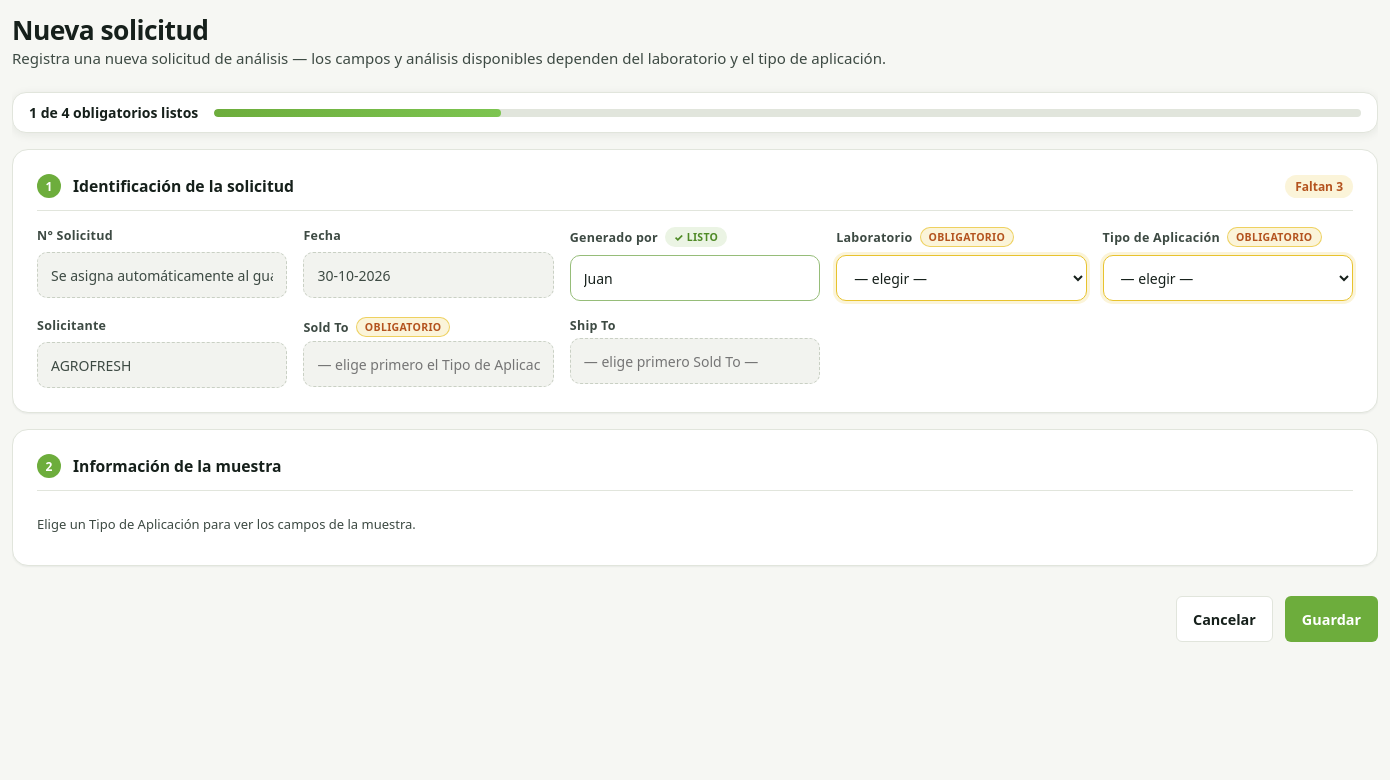
Sold To según el tipo de servicio › Actimist usa SU listado, y el Ship To sale de sus plantas
Select "Actimist" in the dropdown labelled "Tipo de Aplicación" at (1228, 278), box [1103,255,1353,301]
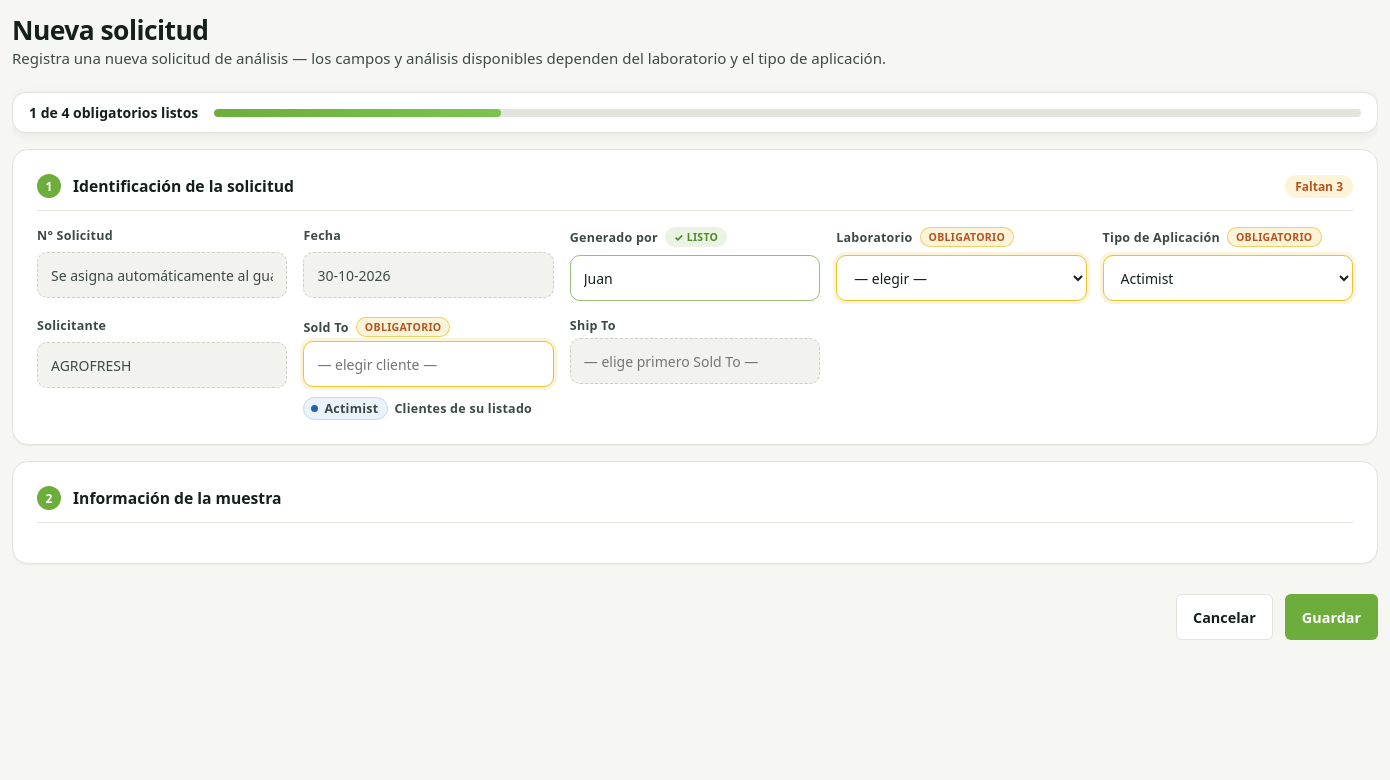
Expected: the text "Clientes de su listado" is shown, [394,400,532,417]
Focus the field with placeholder "— elegir cliente —" at (429, 364), box [303,341,554,387]
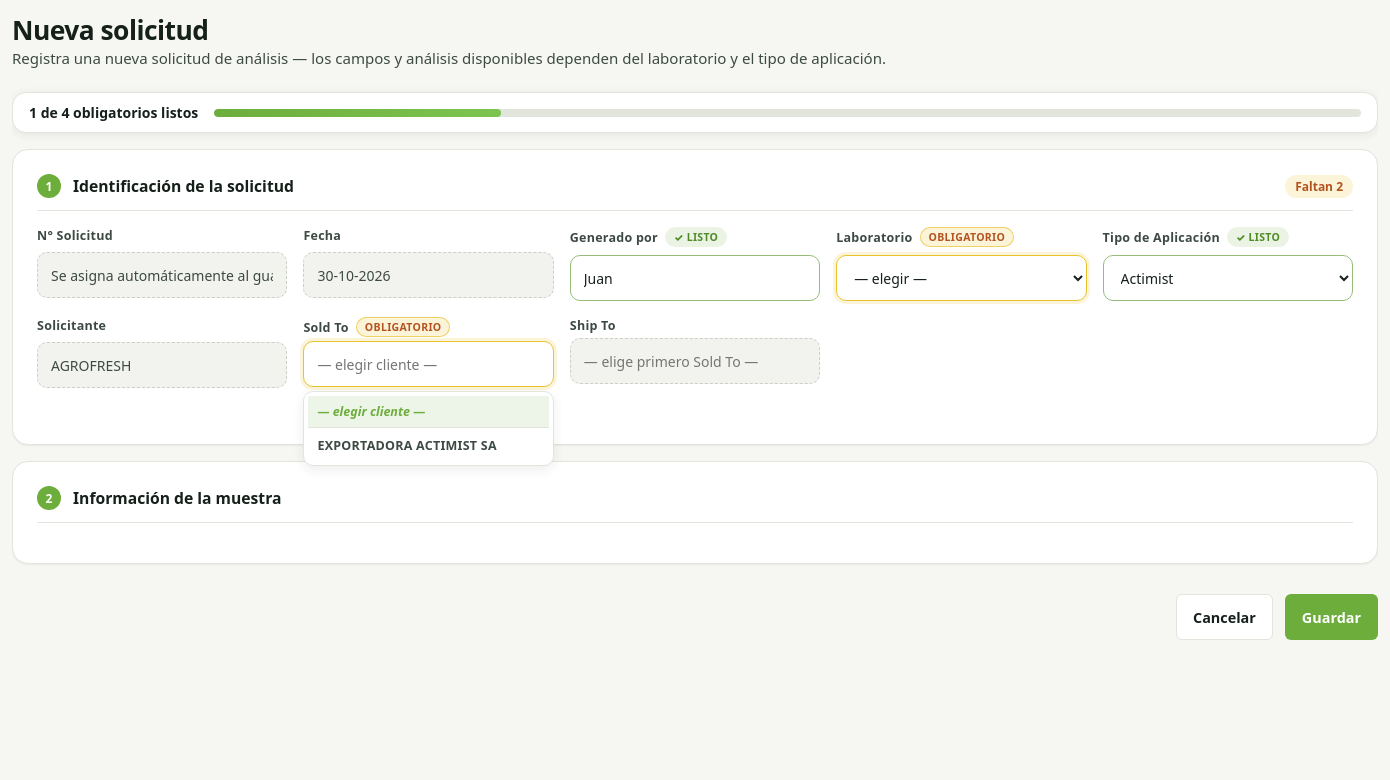
Click the button "EXPORTADORA ACTIMIST SA".
click(429, 446)  # box [308,430,549,461]
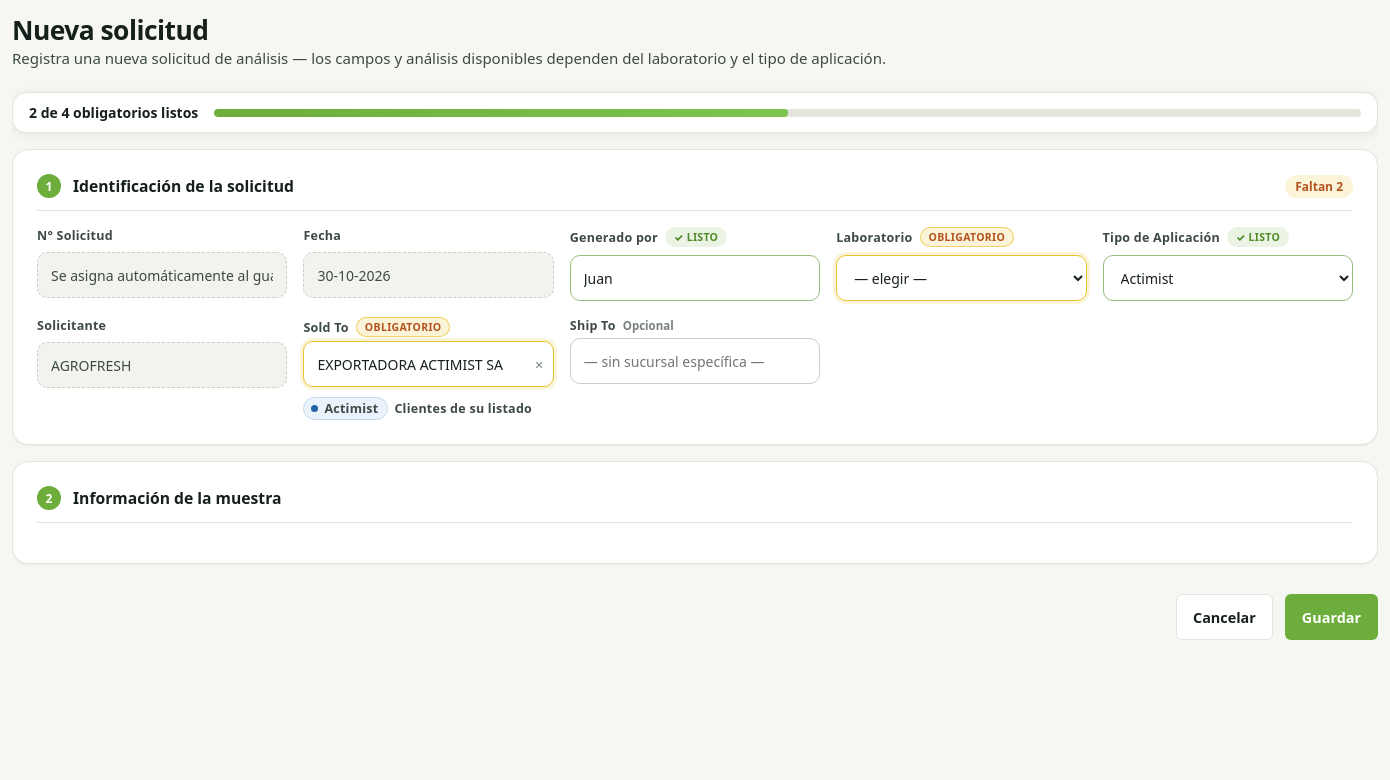
Focus the field with placeholder "— sin sucursal específica —" at (695, 361), box [570,338,820,384]
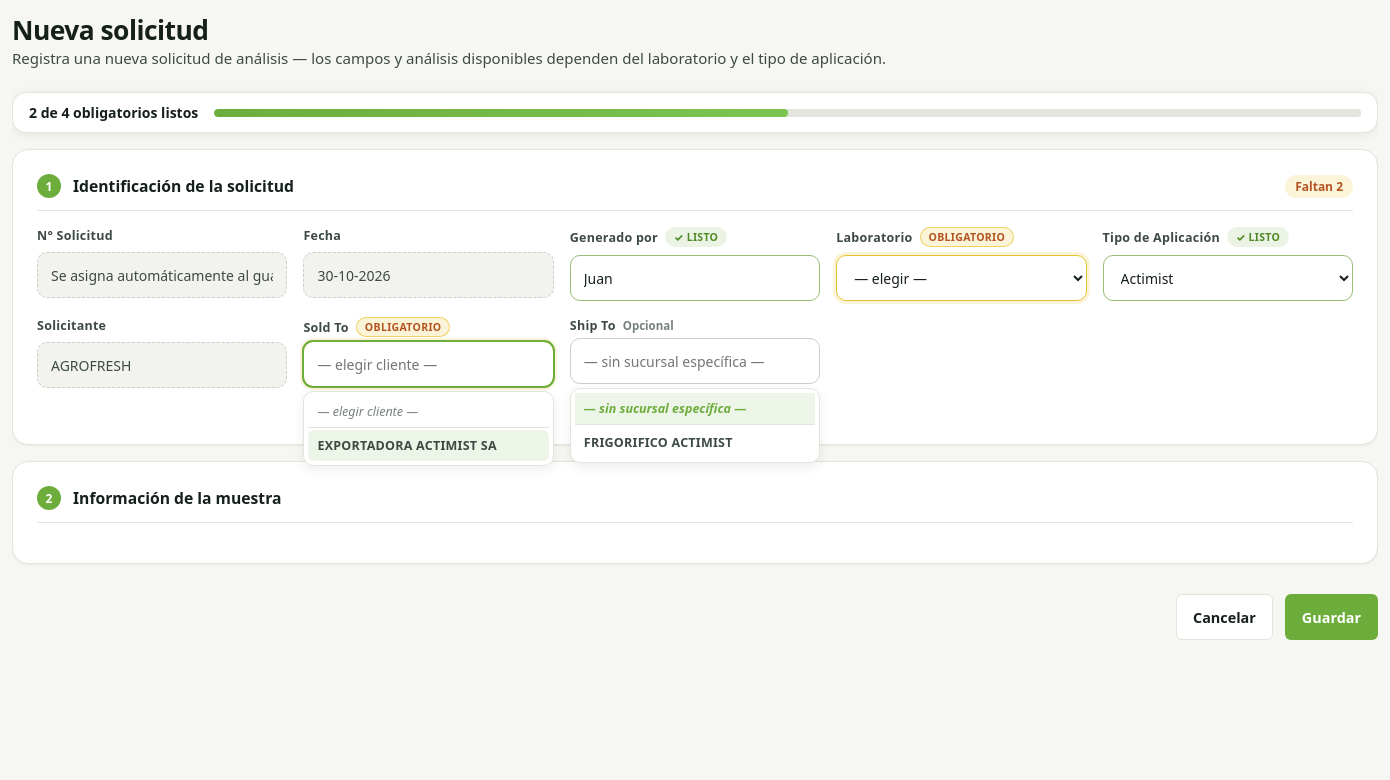
Expected: the text "FRIGORIFICO ACTIMIST" is shown, [584,434,733,451]
